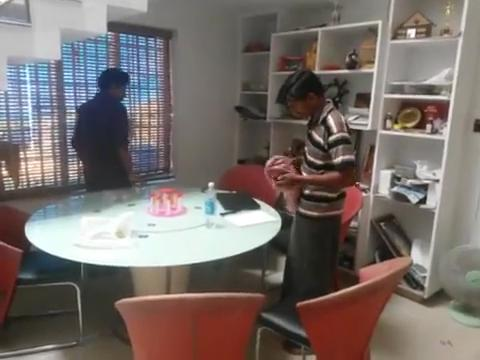chair: (255, 256, 414, 360), (1, 205, 85, 357), (260, 184, 363, 291), (113, 292, 266, 359), (216, 162, 282, 282)
closet_cabinet: (236, 1, 479, 300)
cup_glass_bottle: (144, 187, 187, 217)
floor: (1, 246, 479, 360), (1, 1, 148, 91)
paper_notebook: (216, 193, 276, 228)
person: (274, 69, 355, 302), (71, 68, 145, 191)
table_desk: (24, 185, 282, 345)
towel_s: (263, 154, 299, 217)
window: (1, 31, 170, 192)
